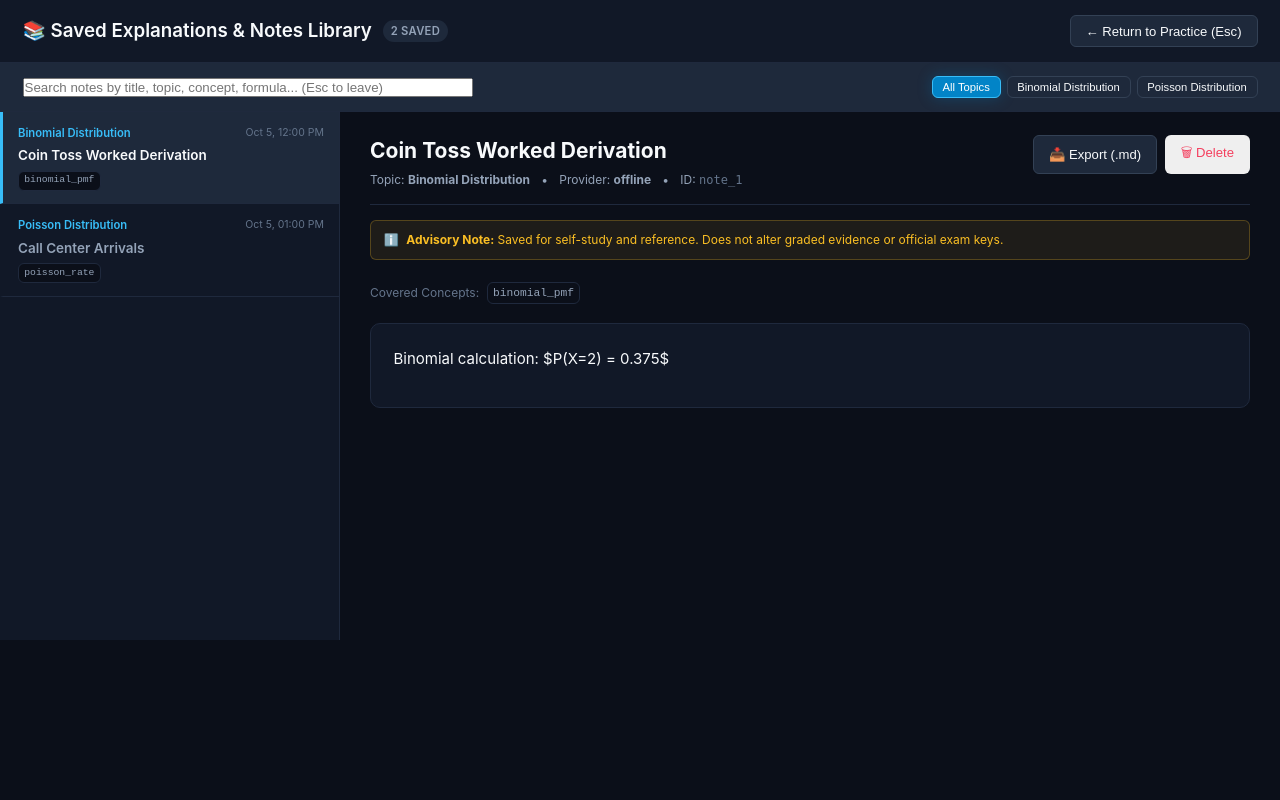
Scenario: NoteLibraryView Component › filters notes when searching
The width and height of the screenshot is (1280, 800).
Expected: the heading "Coin Toss Worked Derivation" below "Oct 5, 12:00 PM" is shown, [18, 147, 207, 163]
Replace the text in the field with placeholder "Search notes" with "poisson": (248, 87) [22, 78, 472, 97]
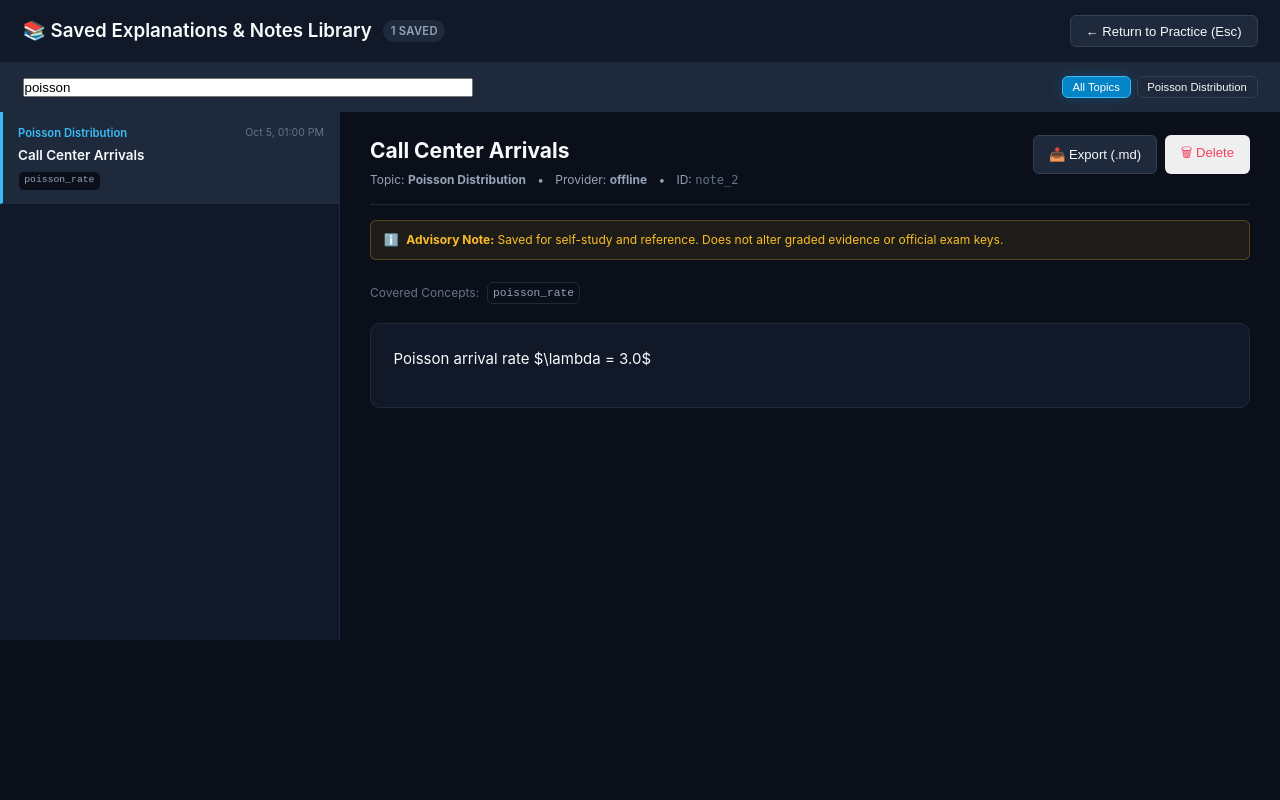
Expected: the heading "Call Center Arrivals" below "Oct 5, 01:00 PM" is shown, [18, 147, 144, 163]
Expected: the heading "Coin Toss Worked Derivation" is gone
